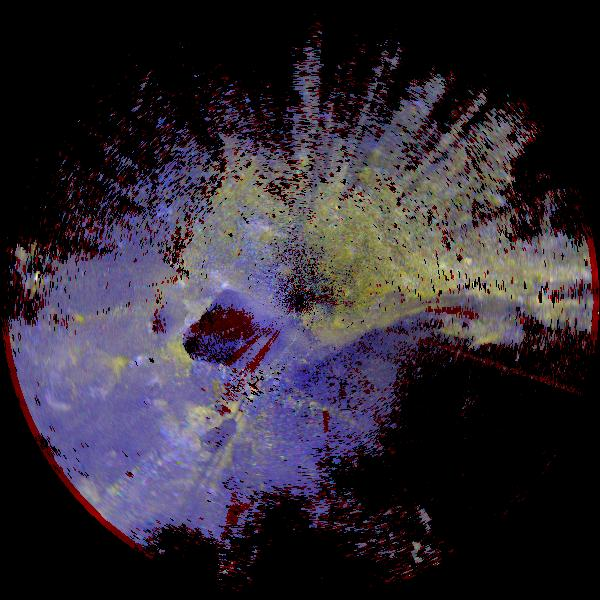roost: (78, 349, 132, 403), (141, 341, 195, 395), (41, 372, 83, 414)
